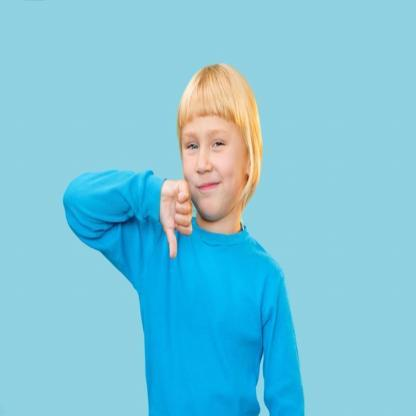thumb_down: (155, 172, 195, 260)
